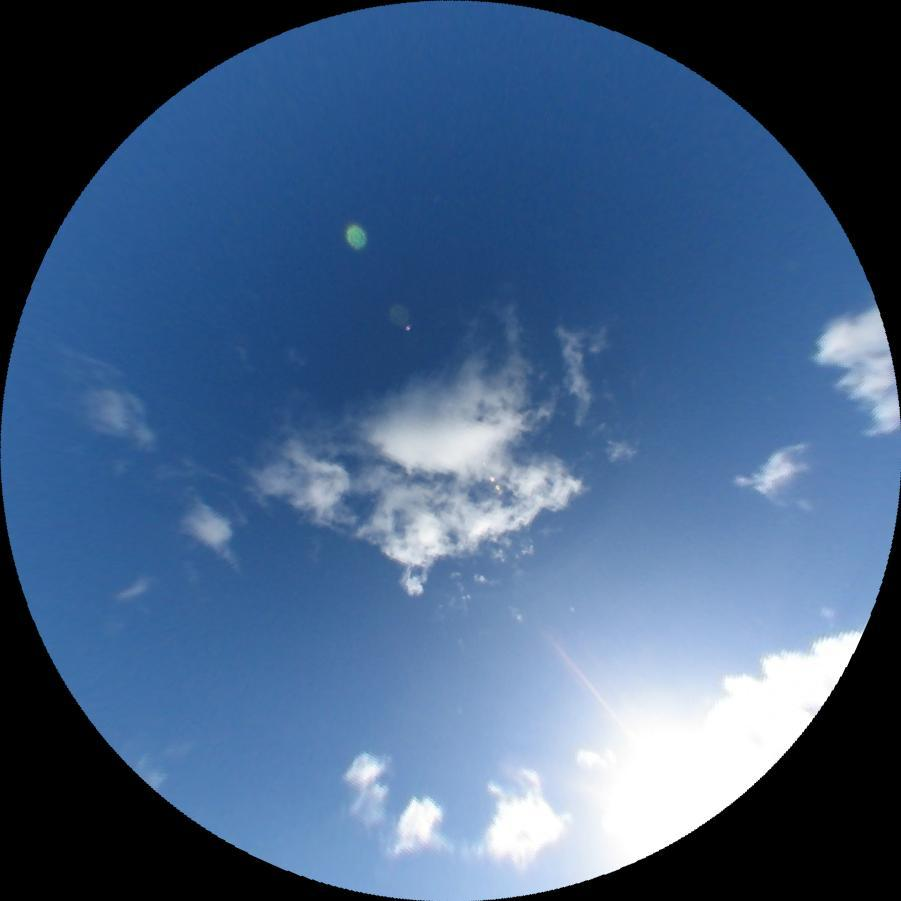parasite: (548, 635, 640, 748)
sun: (577, 701, 757, 883)
